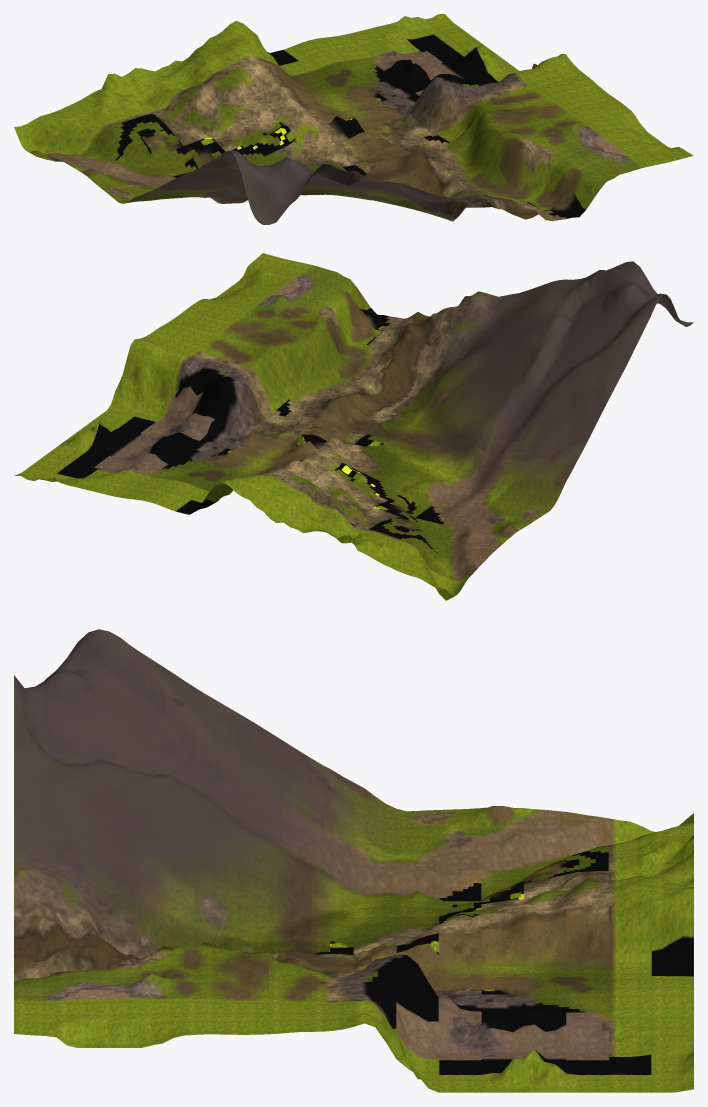
The model's file is terrain.glb.
3 renders of one model, top to bottom at view 1: azimuth 30°, elevation 25°; view 2: azimuth 150°, elevation 25°; view 3: azimuth 270°, elevation 25°, orthographic. The views are drawn at different scales.
Parts seen in each view (by area): view 1: terrain_5_1; view 2: terrain_5_1; view 3: terrain_5_1.
Boxes of the visible parts, bbox=[...] form: terrain_5_1: bbox=[14, 14, 693, 224]; terrain_5_1: bbox=[14, 253, 693, 600]; terrain_5_1: bbox=[14, 629, 693, 1092].
Bounding box in the file's own units: 512 × 177 × 512.
1 material, 1 textured.
